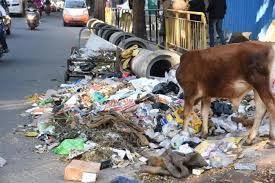garbage: (37, 79, 178, 159)
